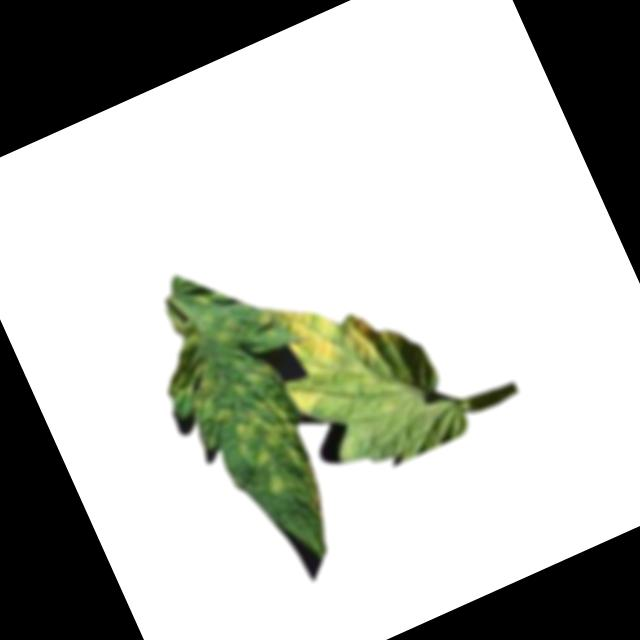Leaf_Mold: (182, 356, 339, 549), (253, 263, 415, 424), (136, 294, 234, 421)
